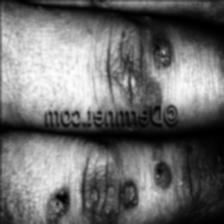Toxin: (153, 35, 173, 68), (48, 188, 68, 220), (120, 181, 136, 211), (154, 163, 171, 187), (218, 143, 224, 193)
